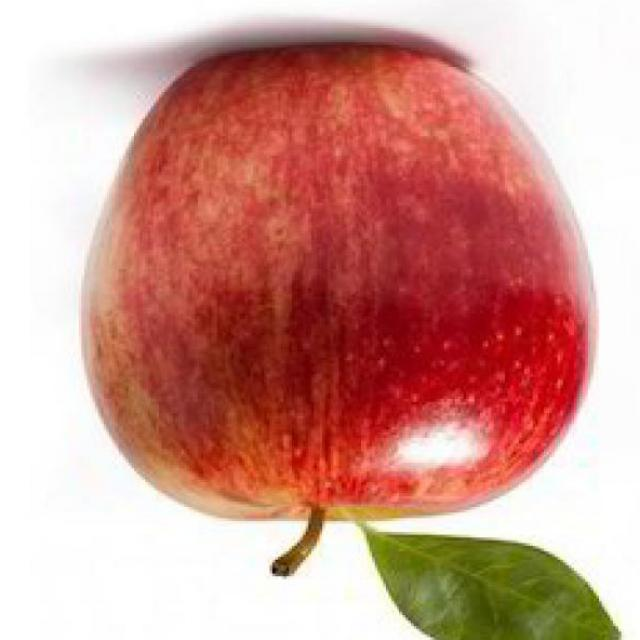apple: (76, 31, 618, 538)
